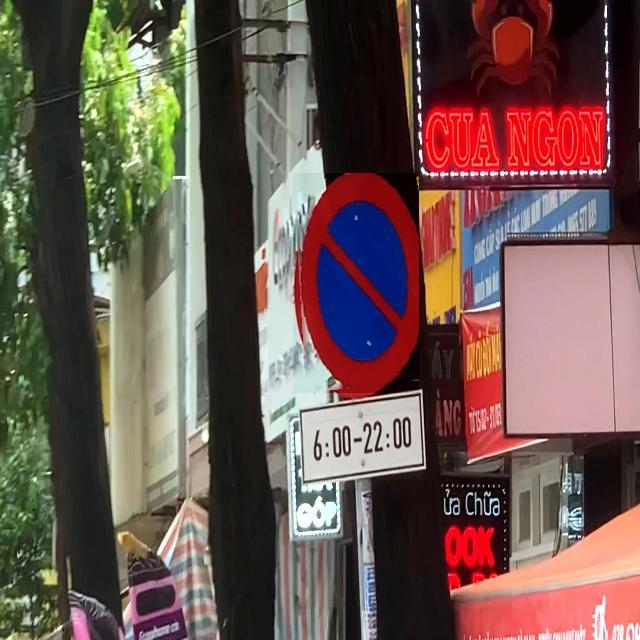P-131a: (293, 173, 419, 393)
